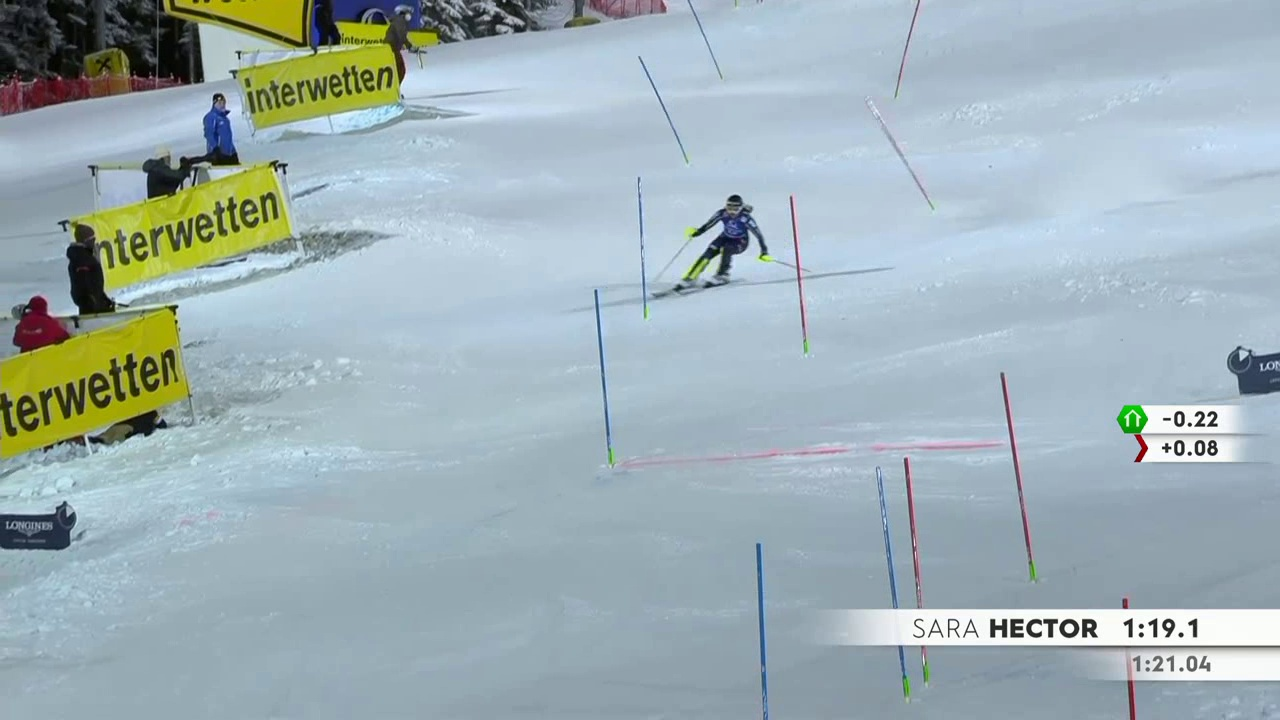interwetten: (83, 172, 289, 289), (169, 1, 297, 32)
raiffeisen: (1, 332, 173, 463), (236, 46, 404, 127)
